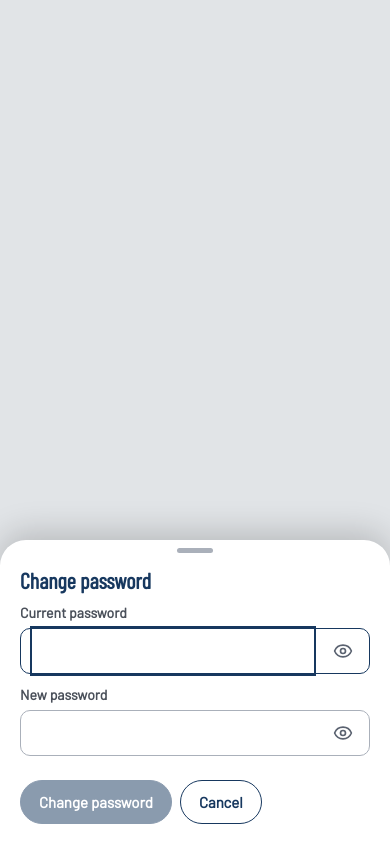
Test: ChangePasswordSheet › falls back to a plain message when there was no signal
Type "old-Passw0rd!" into the password field labelled "Current password" at (173, 651), box [33, 629, 313, 673]
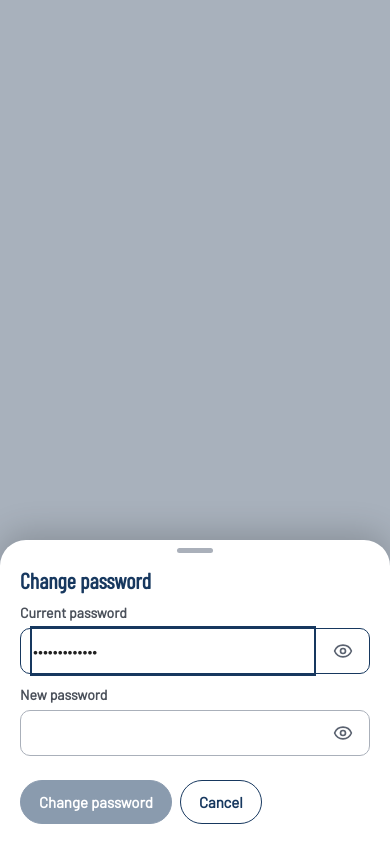
Type "Brand-new9pw" into the password field labelled "New password" at (173, 733), box [33, 711, 313, 755]
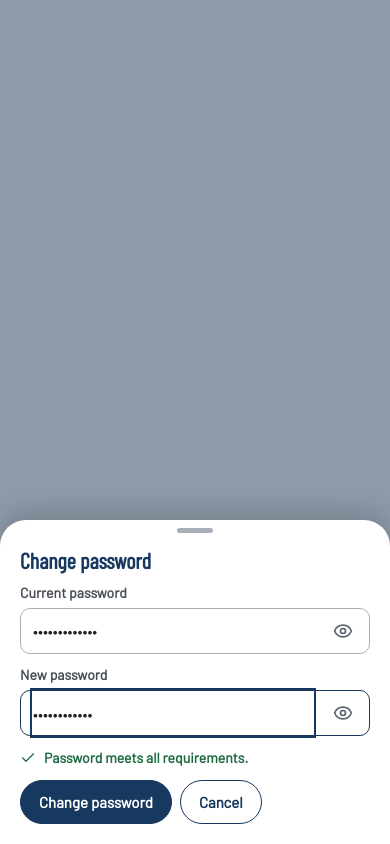
Click the button "Change password" at (96, 802), box [20, 780, 172, 824]
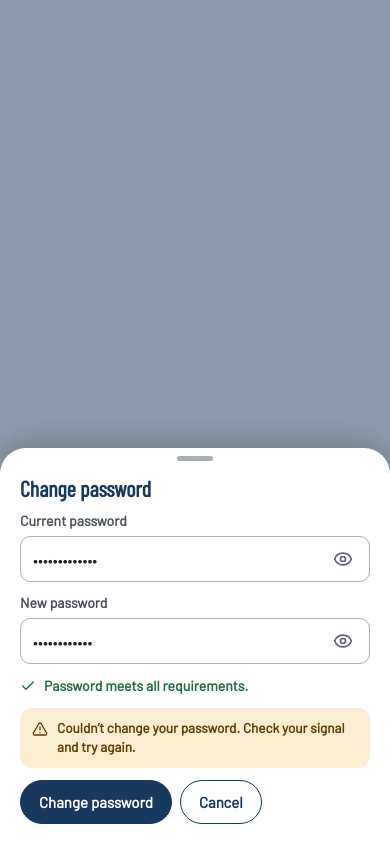
Result: the message reads "Couldn’t change your password. Check your signal and try again." at [57, 719, 345, 755]
